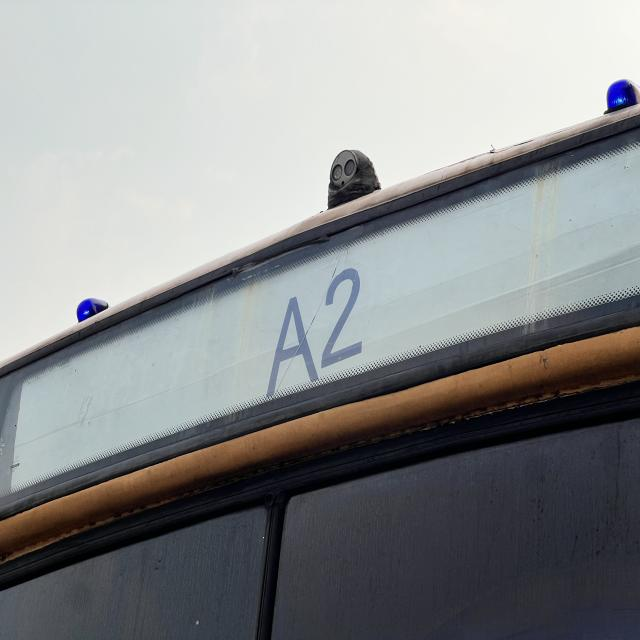BMTA-bus: (0, 70, 640, 640)
Bus-Line-Number: (251, 250, 380, 400)
